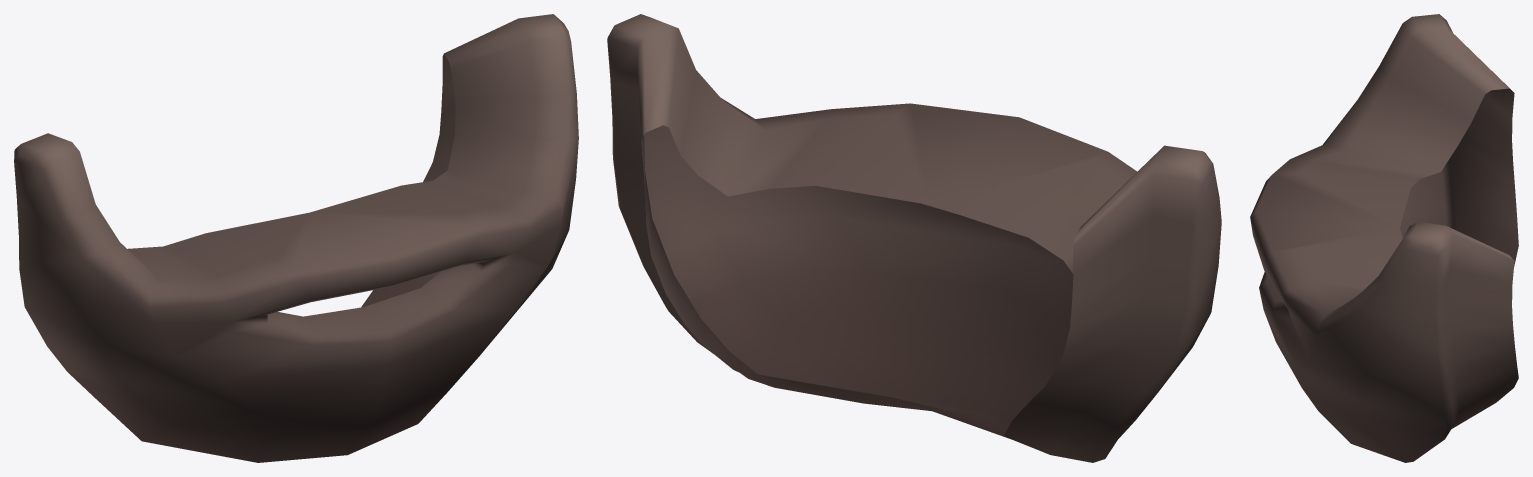
The model's file is Beard_03.glb.
3 views of the same model, side by side, from view 1: azimuth 30°, elevation 25°; view 2: azimuth 150°, elevation 25°; view 3: azimuth 270°, elevation 25° (orthographic). The views are drawn at different scales.
Parts seen in each view (by area): view 1: Beard_03; view 2: Beard_03; view 3: Beard_03.
Part boxes in pixels (left/top/right/bottom): Beard_03: left=14, top=14, right=578, bottom=462; Beard_03: left=607, top=14, right=1221, bottom=462; Beard_03: left=1250, top=14, right=1518, bottom=462.
Bounding box in the file's own units: 0.5719 × 0.3337 × 0.2805.
1 material, 1 textured.
